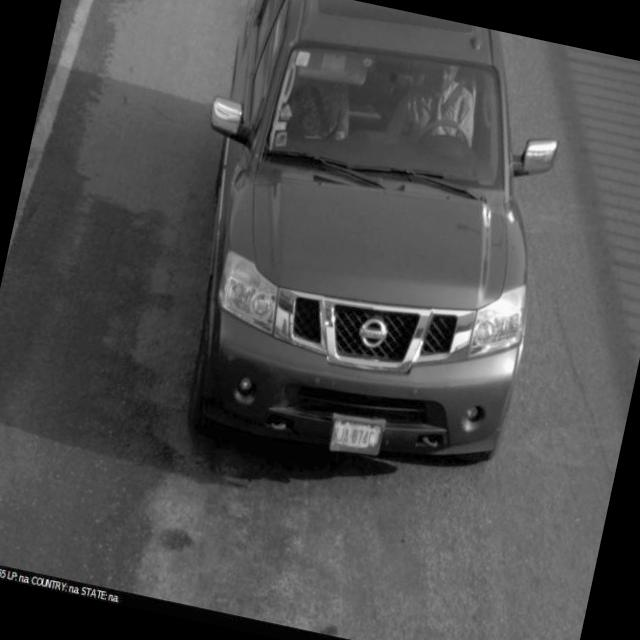person_with_seatbelt: (361, 43, 500, 194)
